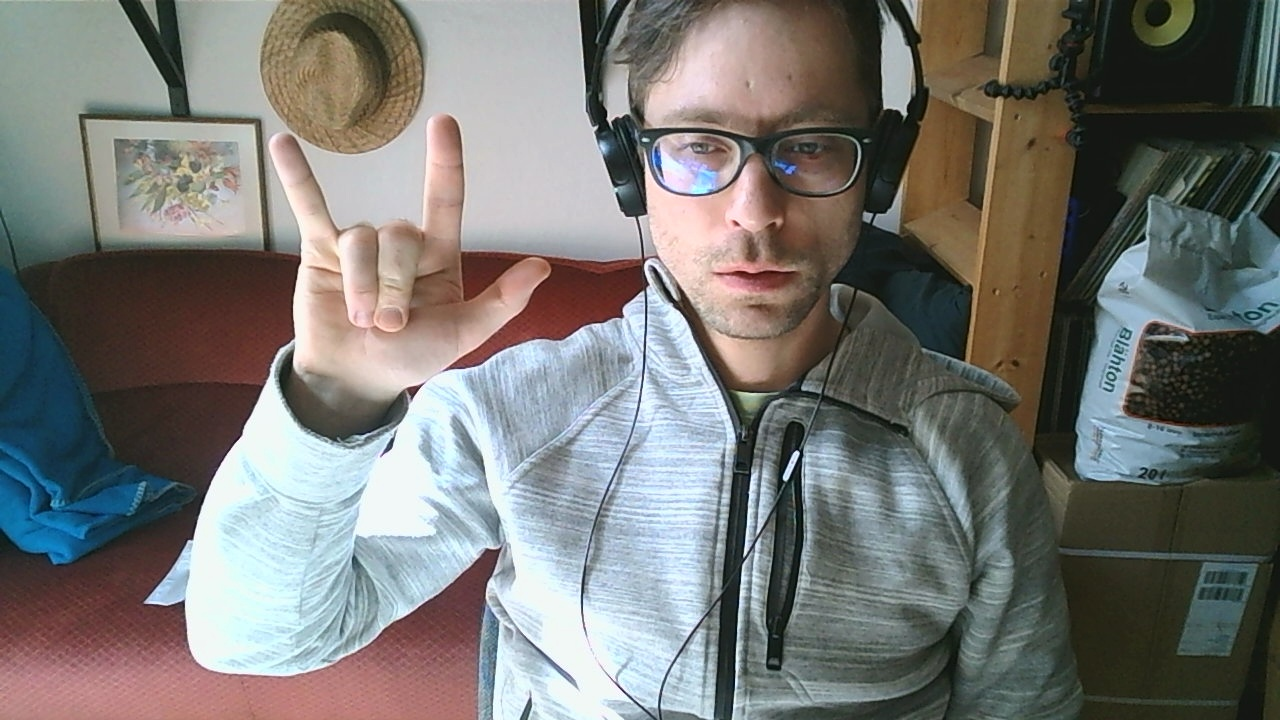iloveyou: (266, 115, 554, 390)
